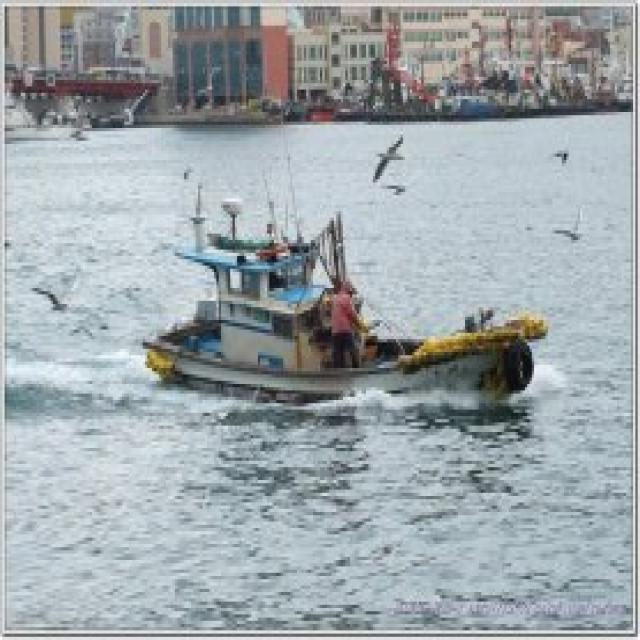Ship: (126, 187, 561, 427)
